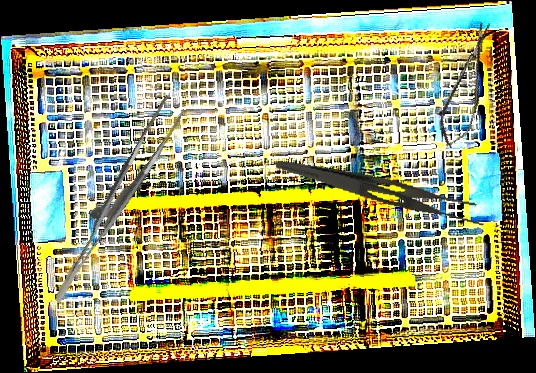Dressing Forceps: (271, 158, 490, 230)
Micro Scissor: (431, 18, 505, 152)
Tissue Forceps: (22, 95, 204, 304)
